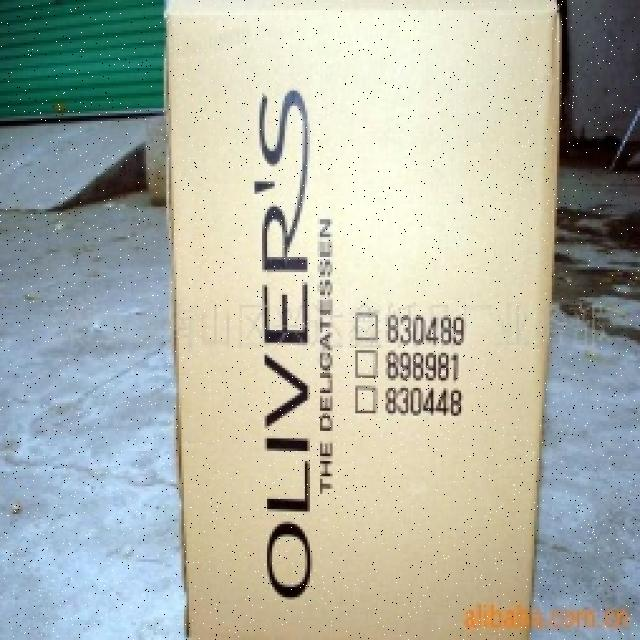box: (162, 0, 544, 640)
